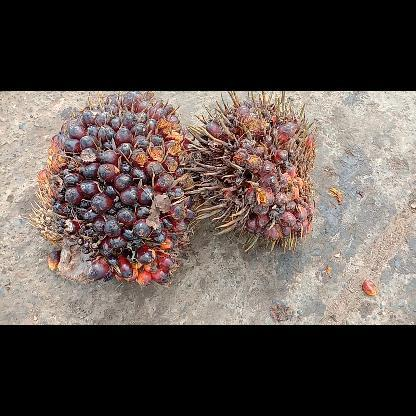Kurang masak: (26, 90, 198, 286)
TBS masak: (182, 90, 315, 252)
